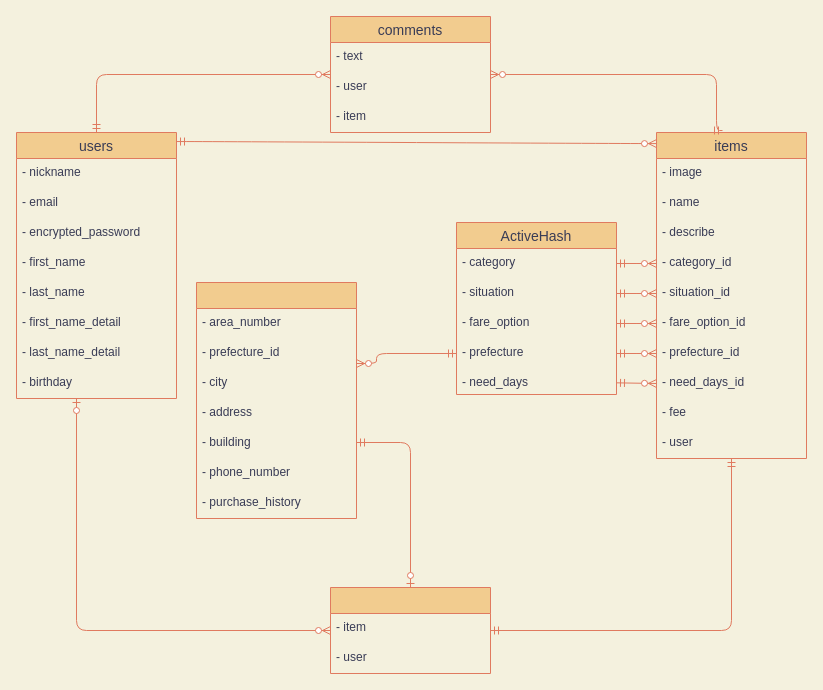
Image size: 823x690. Some labels were removed from this diagram. The shapes that lost their labels are listed below. From the top down, each one's box as (x1, y1, x2, y2) in pixels, then its label:
(196, 282, 356, 518): residences
(330, 586, 490, 674): purchase_histories
